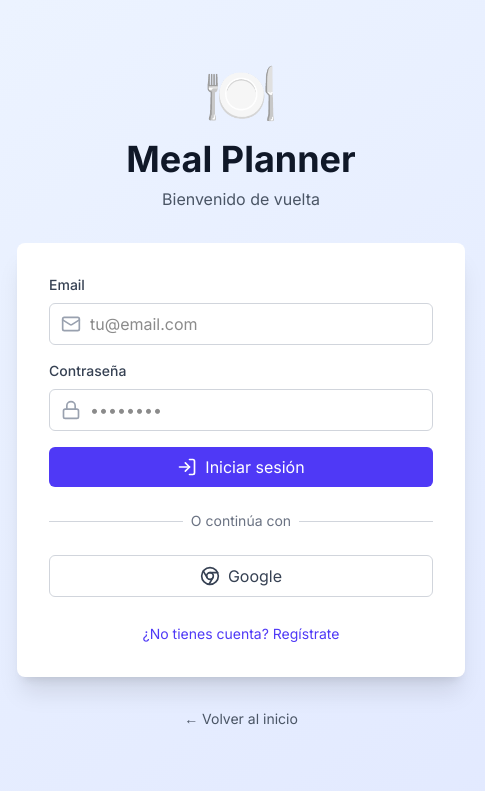
Test case: LoginPage Component › Sign Up Mode › shows email confirmation message when required
// Toggle to sign up
Click the button "¿No tienes cuenta? Regístrate" at (241, 634), box [142,624,339,644]
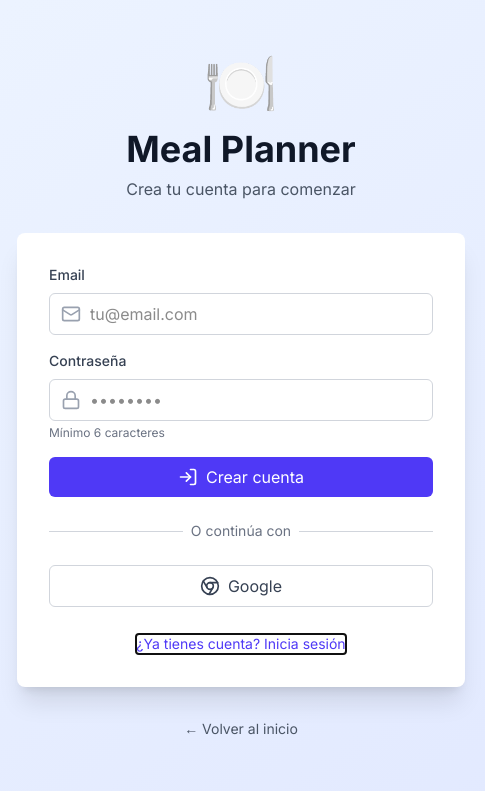
// Fill and submit form
Type "newuser@example.com" into the field labelled "Email" at (241, 314), box [49,293,433,335]
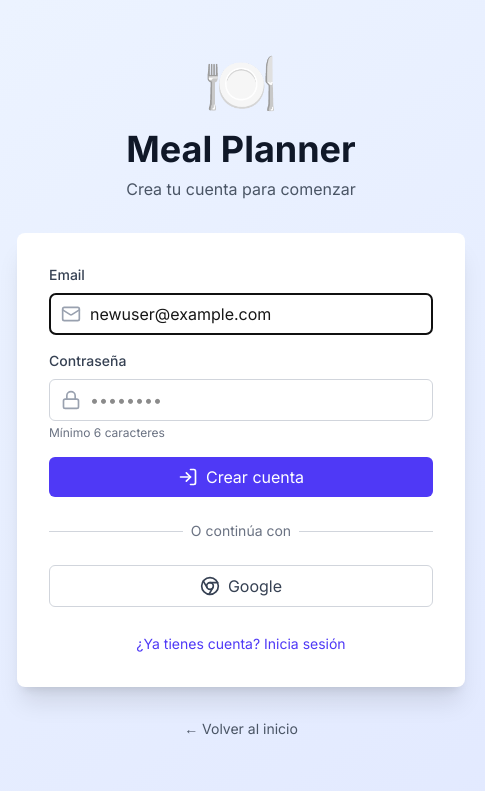
Type "password123" into the password field labelled "Contraseña" at (241, 400), box [49,379,433,421]
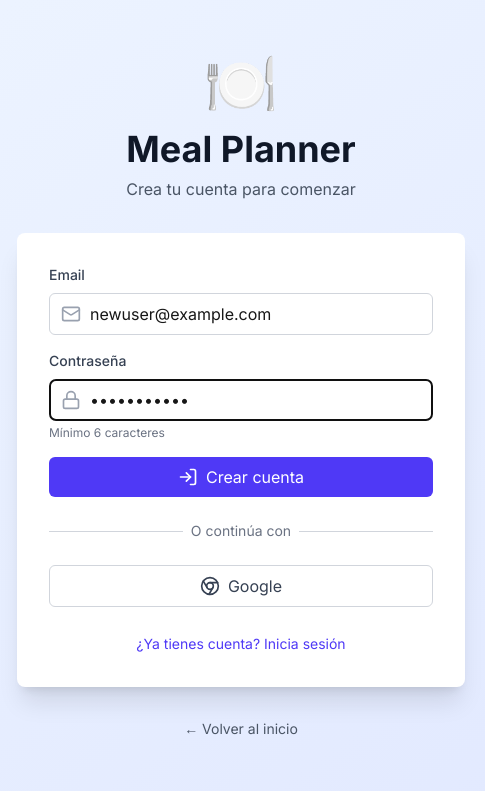
Click the button "Crear cuenta" at (241, 477), box [49,457,433,497]
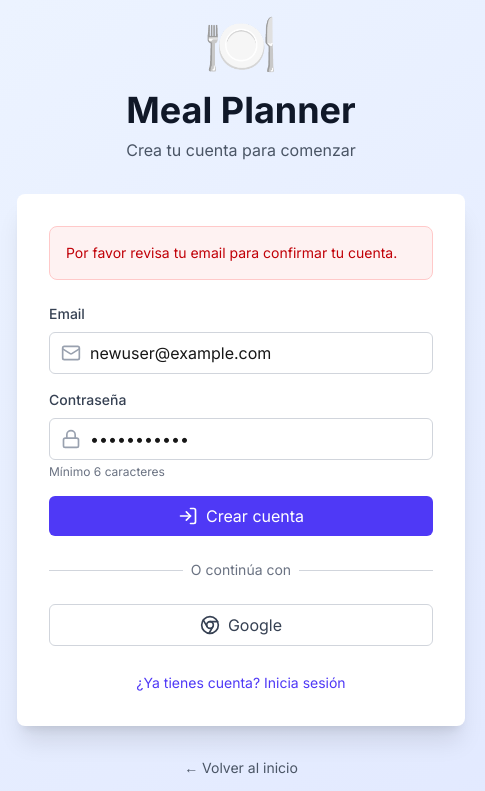
Expected: the text "Por favor revisa tu email para confirmar tu cuenta." is shown, [49,226,433,280]
